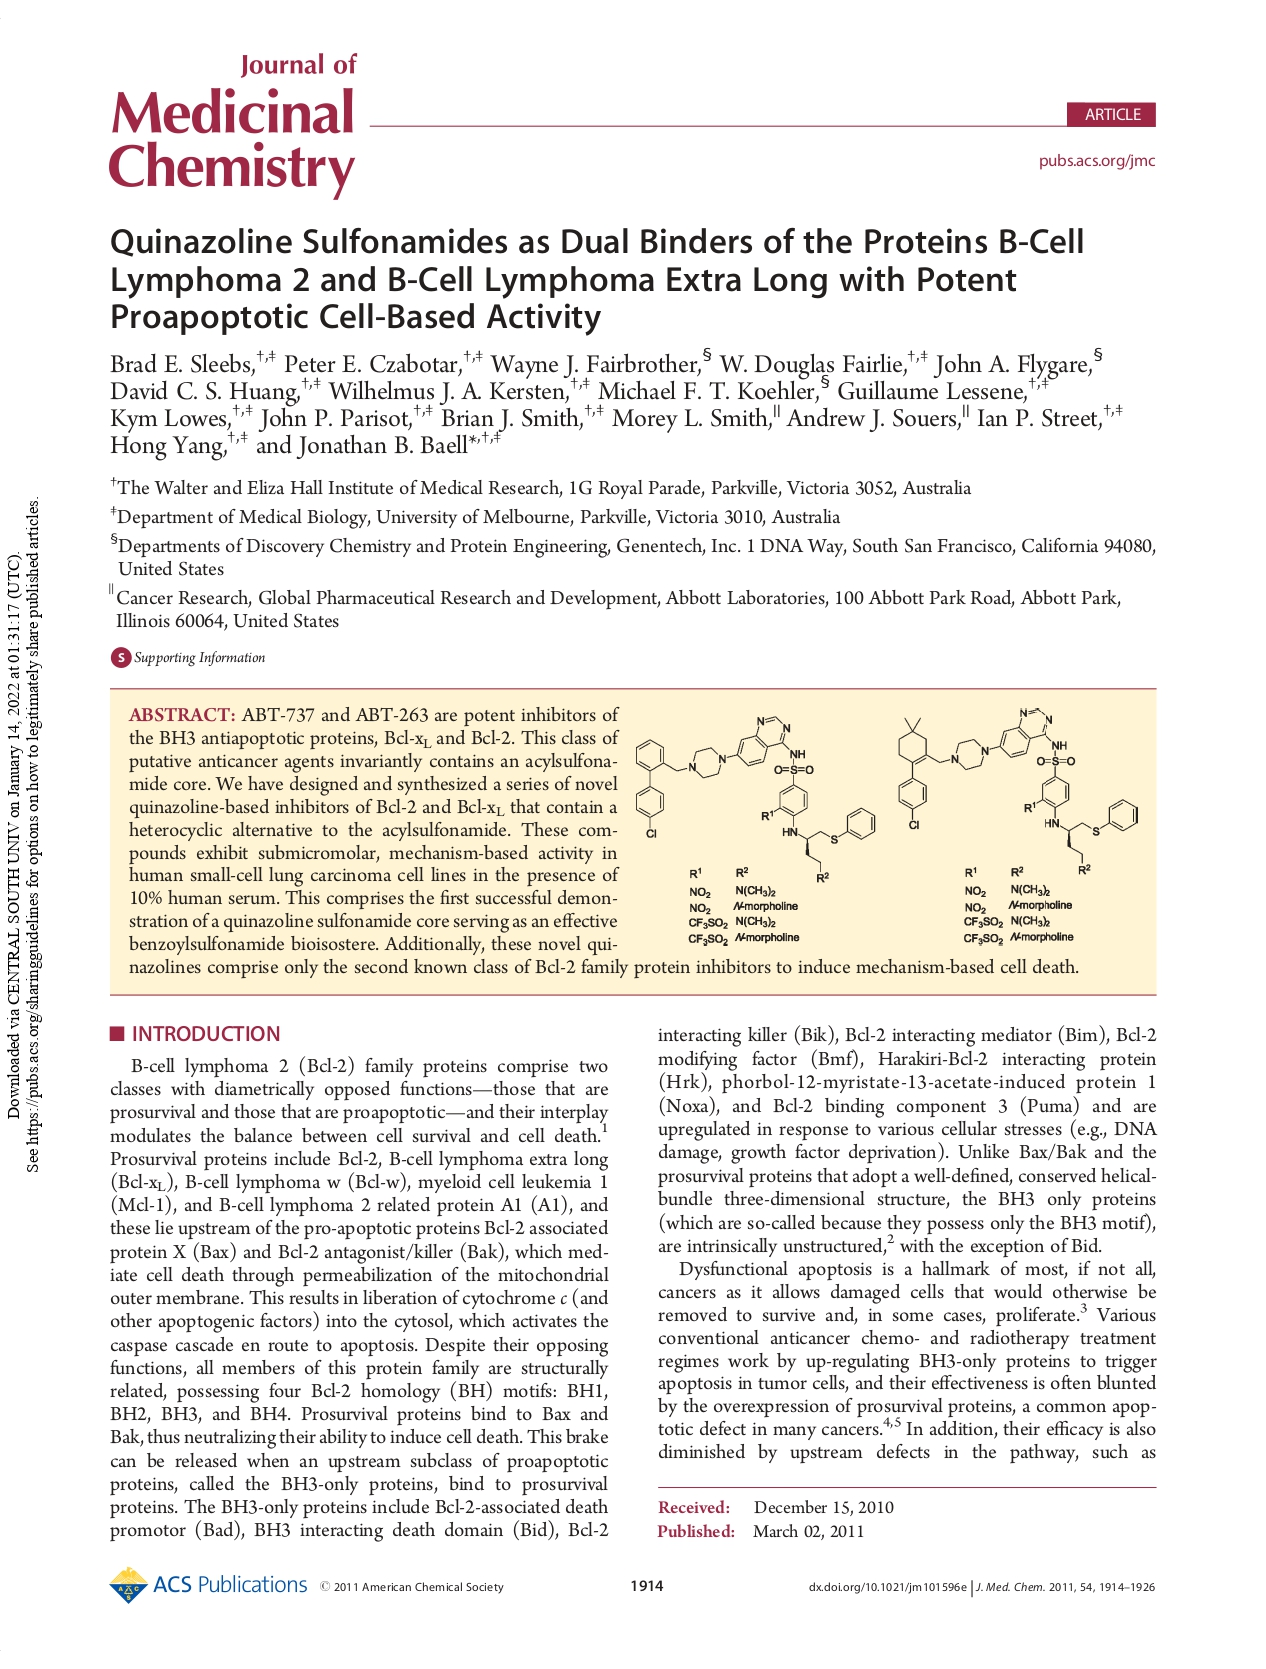exist_molecular: (894, 702, 1142, 876), (630, 711, 876, 886)
